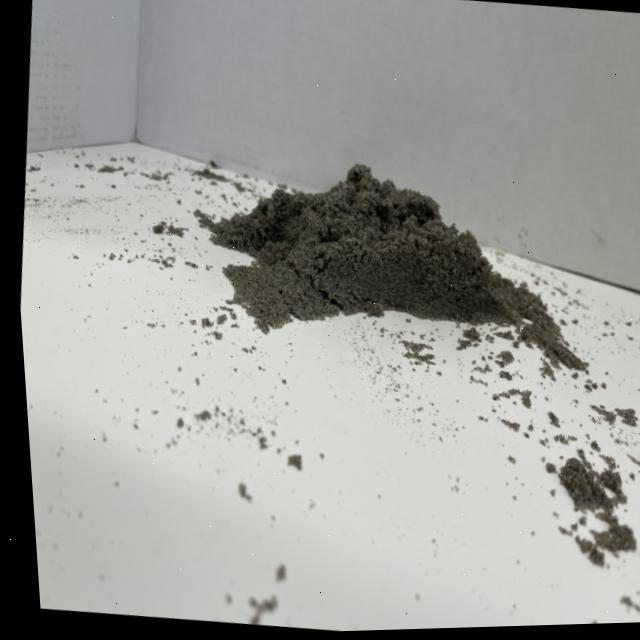sand: (179, 140, 603, 373)
